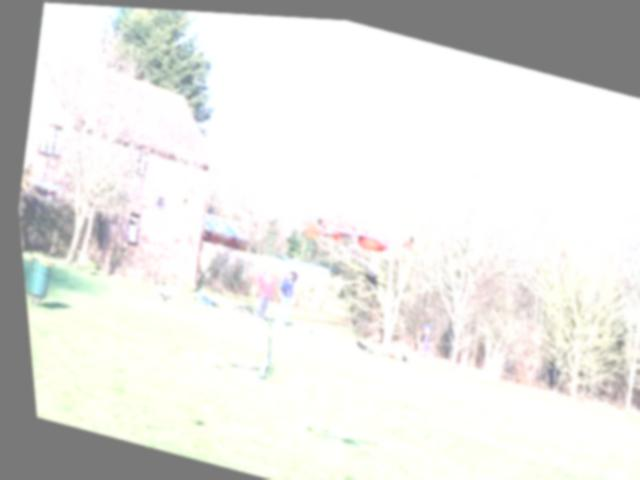uav: (288, 197, 421, 273)
